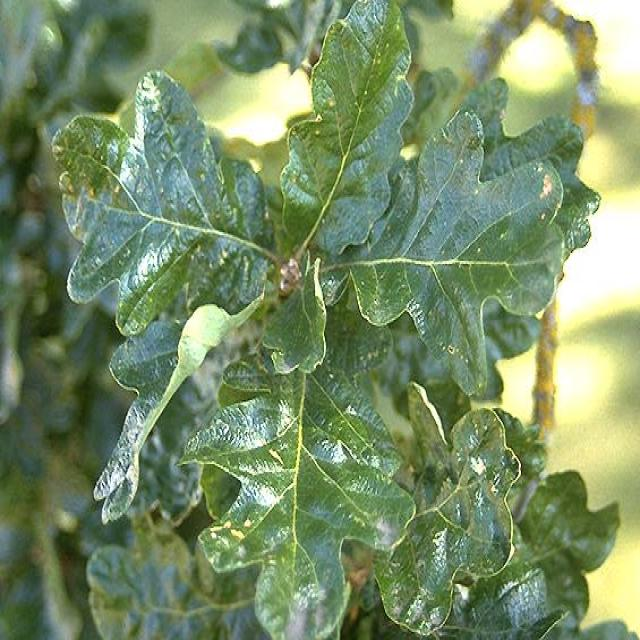Quercus garryana: (49, 0, 564, 606)
